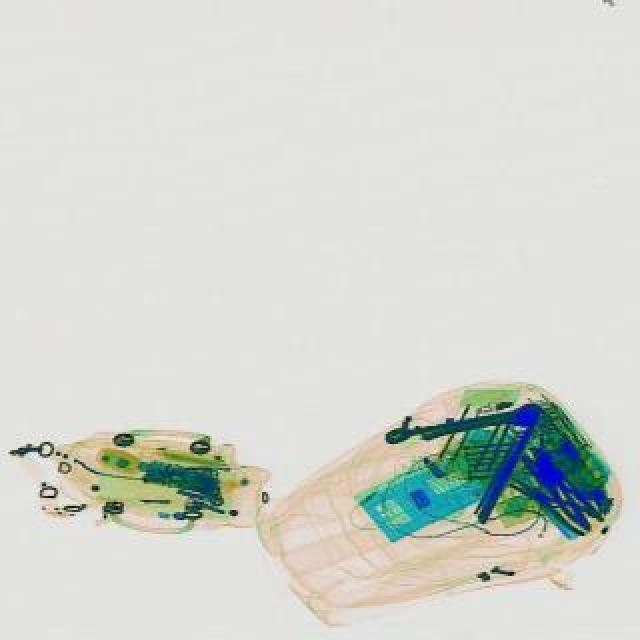scissors: (380, 400, 546, 452)
wrench: (512, 446, 604, 532), (500, 466, 600, 538)
